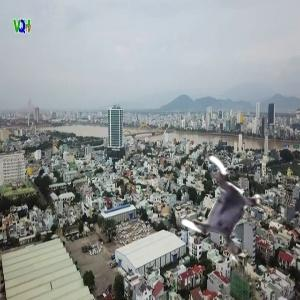drone: (176, 160, 274, 258)
